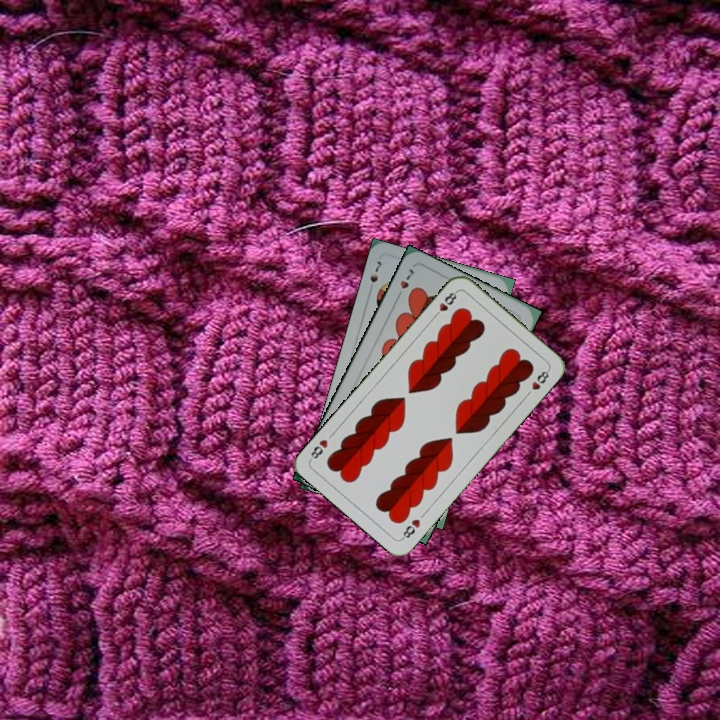H7: (392, 265, 416, 302)
H8: (430, 287, 460, 321), (397, 515, 423, 542)
S7: (366, 257, 384, 285)
